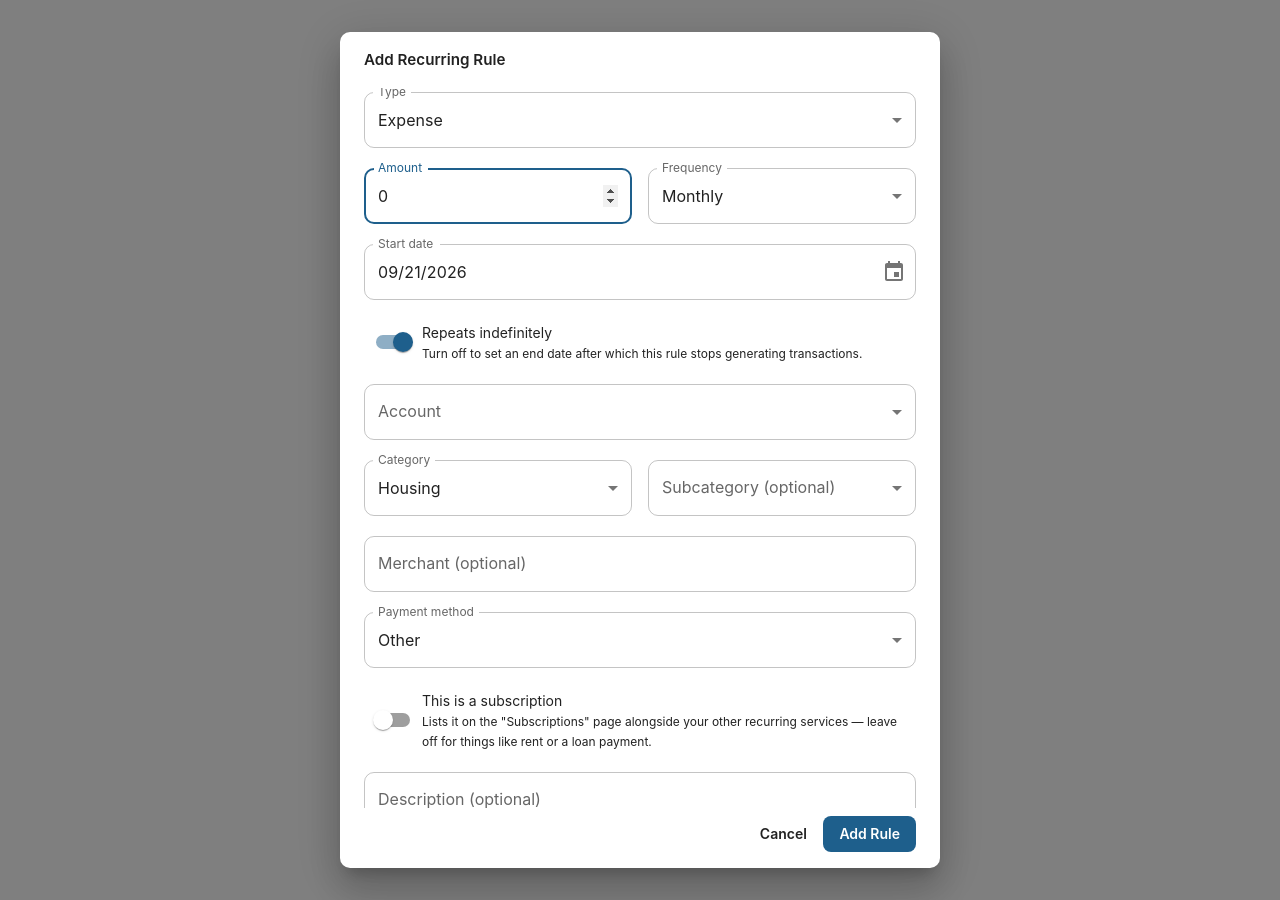
Test case: RecurringTransactionFormDialog › requires an account before submitting
Replace the text in the number field labelled "Amount" with "500": (498, 196) [364,168,632,224]
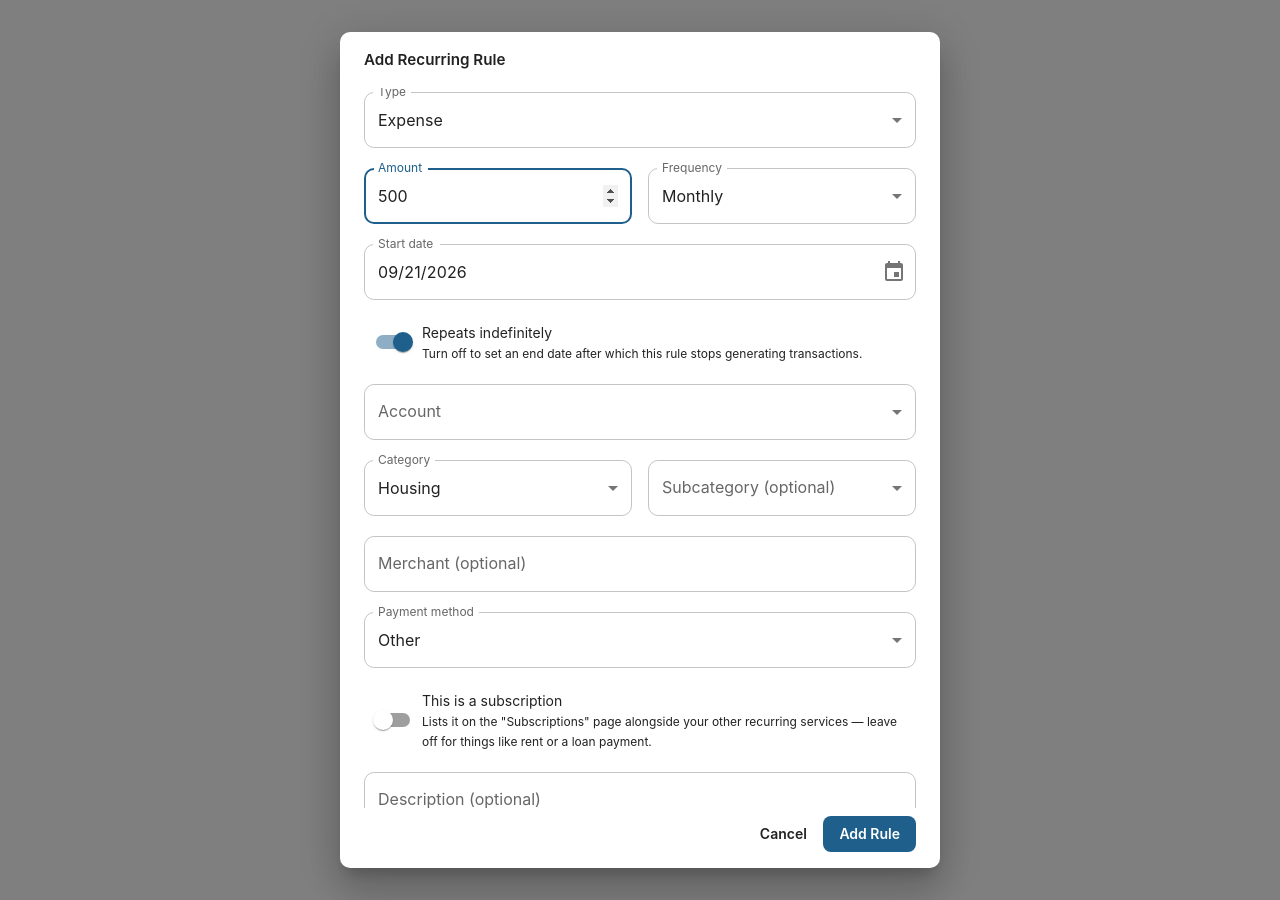
Click the button "Add Rule": (870, 834) [823,816,916,852]
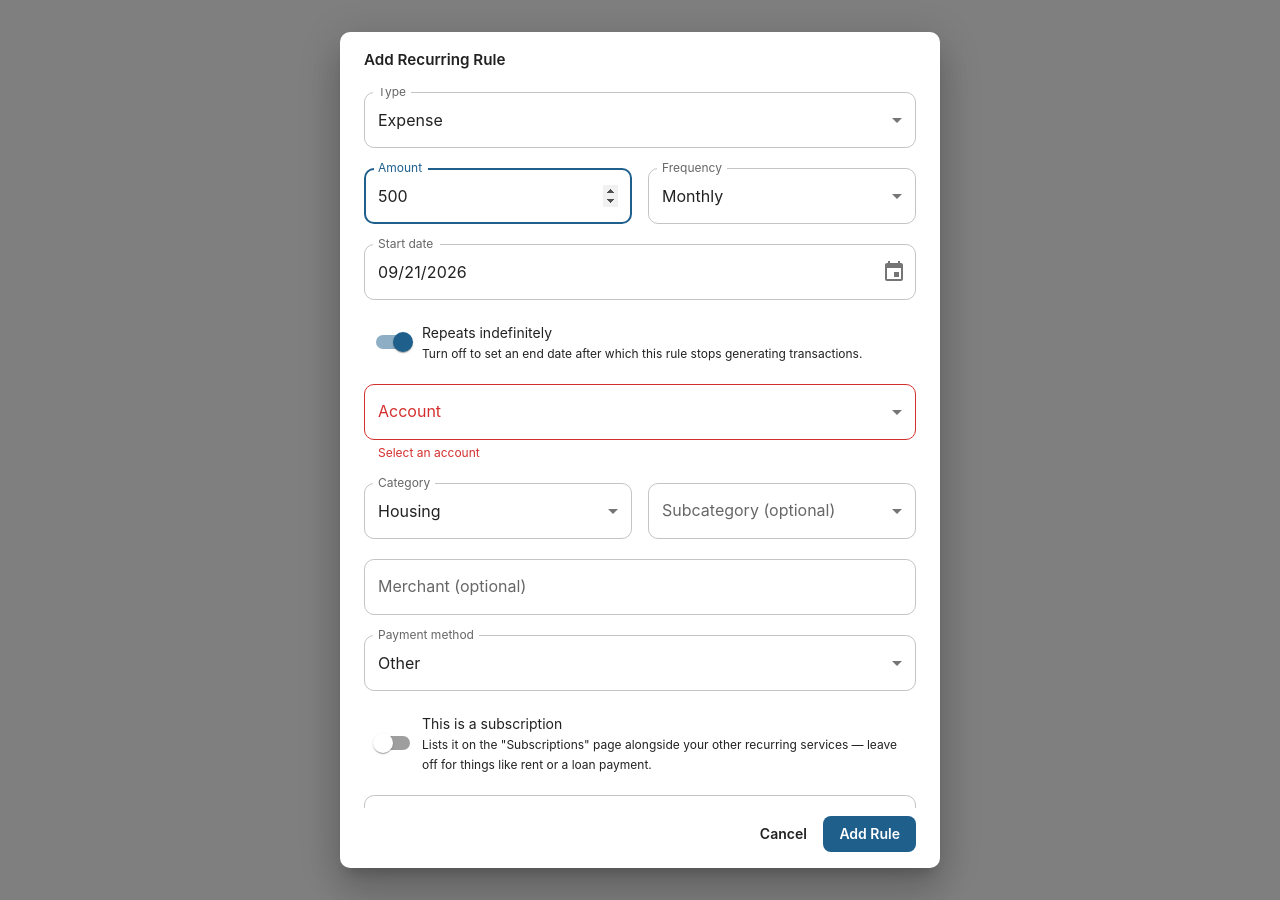
Expected: the text "Select an account" is shown, [378,445,480,460]
